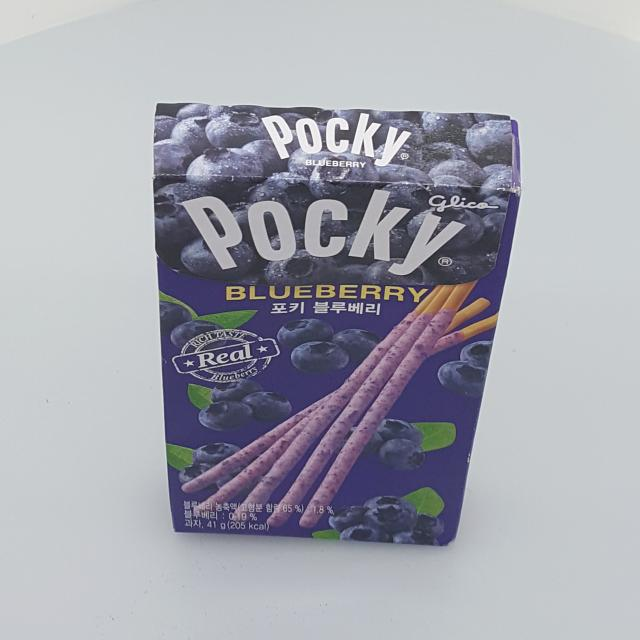-41G: (153, 104, 522, 547)
